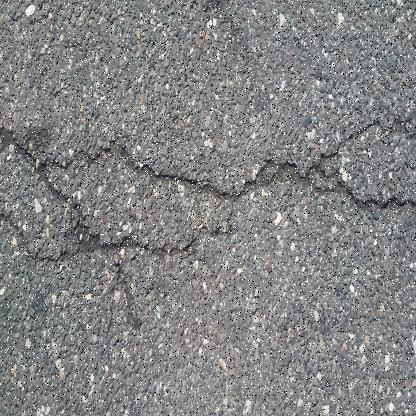Cracks: (0, 69, 415, 272)
